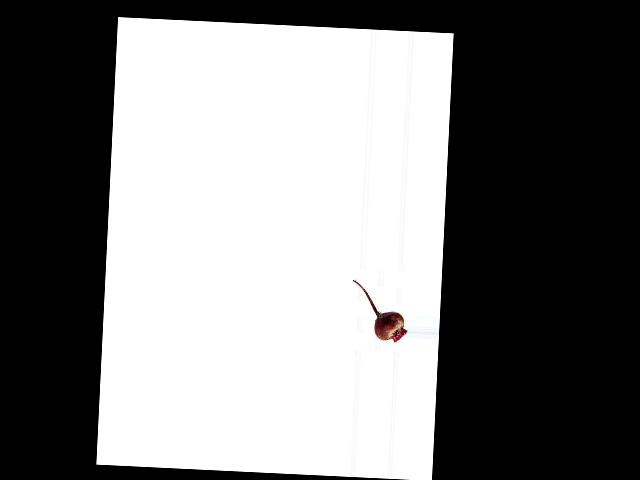beet: (350, 279, 409, 342)
